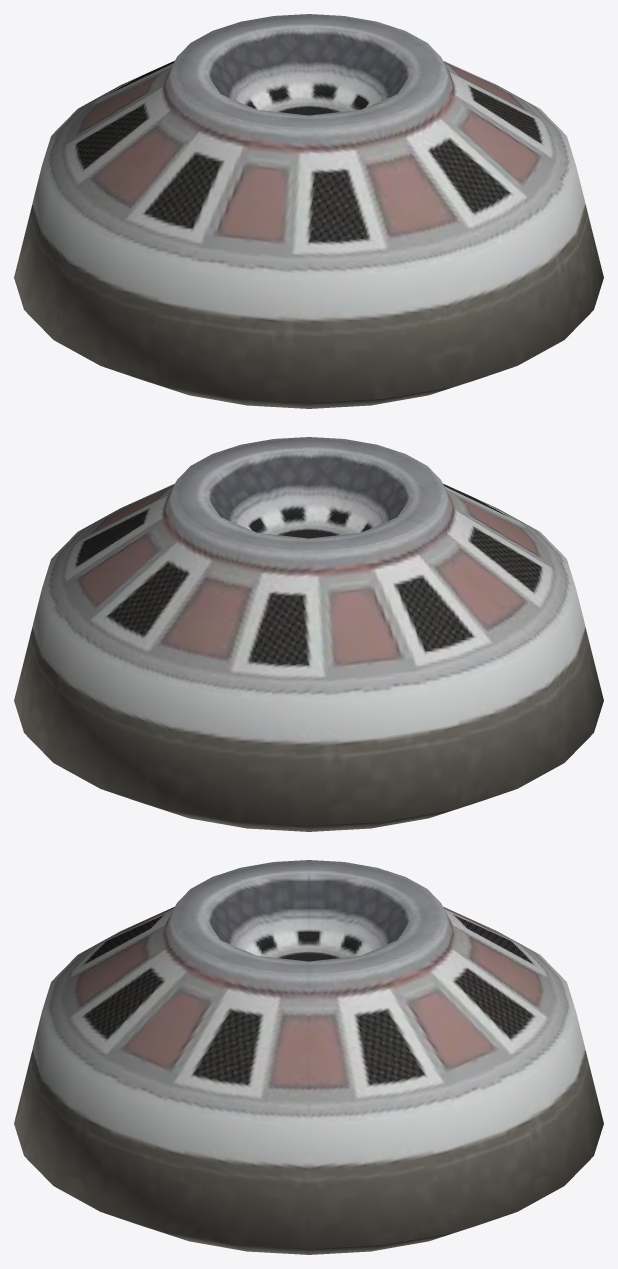
Rendered from Part - Tube 07-CTVk1Suh.glb.
3 views of the same model, one above another, from view 1: azimuth 30°, elevation 25°; view 2: azimuth 150°, elevation 25°; view 3: azimuth 270°, elevation 25° (orthographic).
Visible parts, largest first — view 1: Tube_07; view 2: Tube_07; view 3: Tube_07.
Boxes of the visible parts, left/top/right/bottom form: Tube_07: left=14, top=14, right=603, bottom=408; Tube_07: left=14, top=437, right=603, bottom=831; Tube_07: left=14, top=860, right=603, bottom=1254.
Bounding box in the file's own units: 2.39 × 1.06 × 2.39.
Materials: 1 (1 with a texture image).
